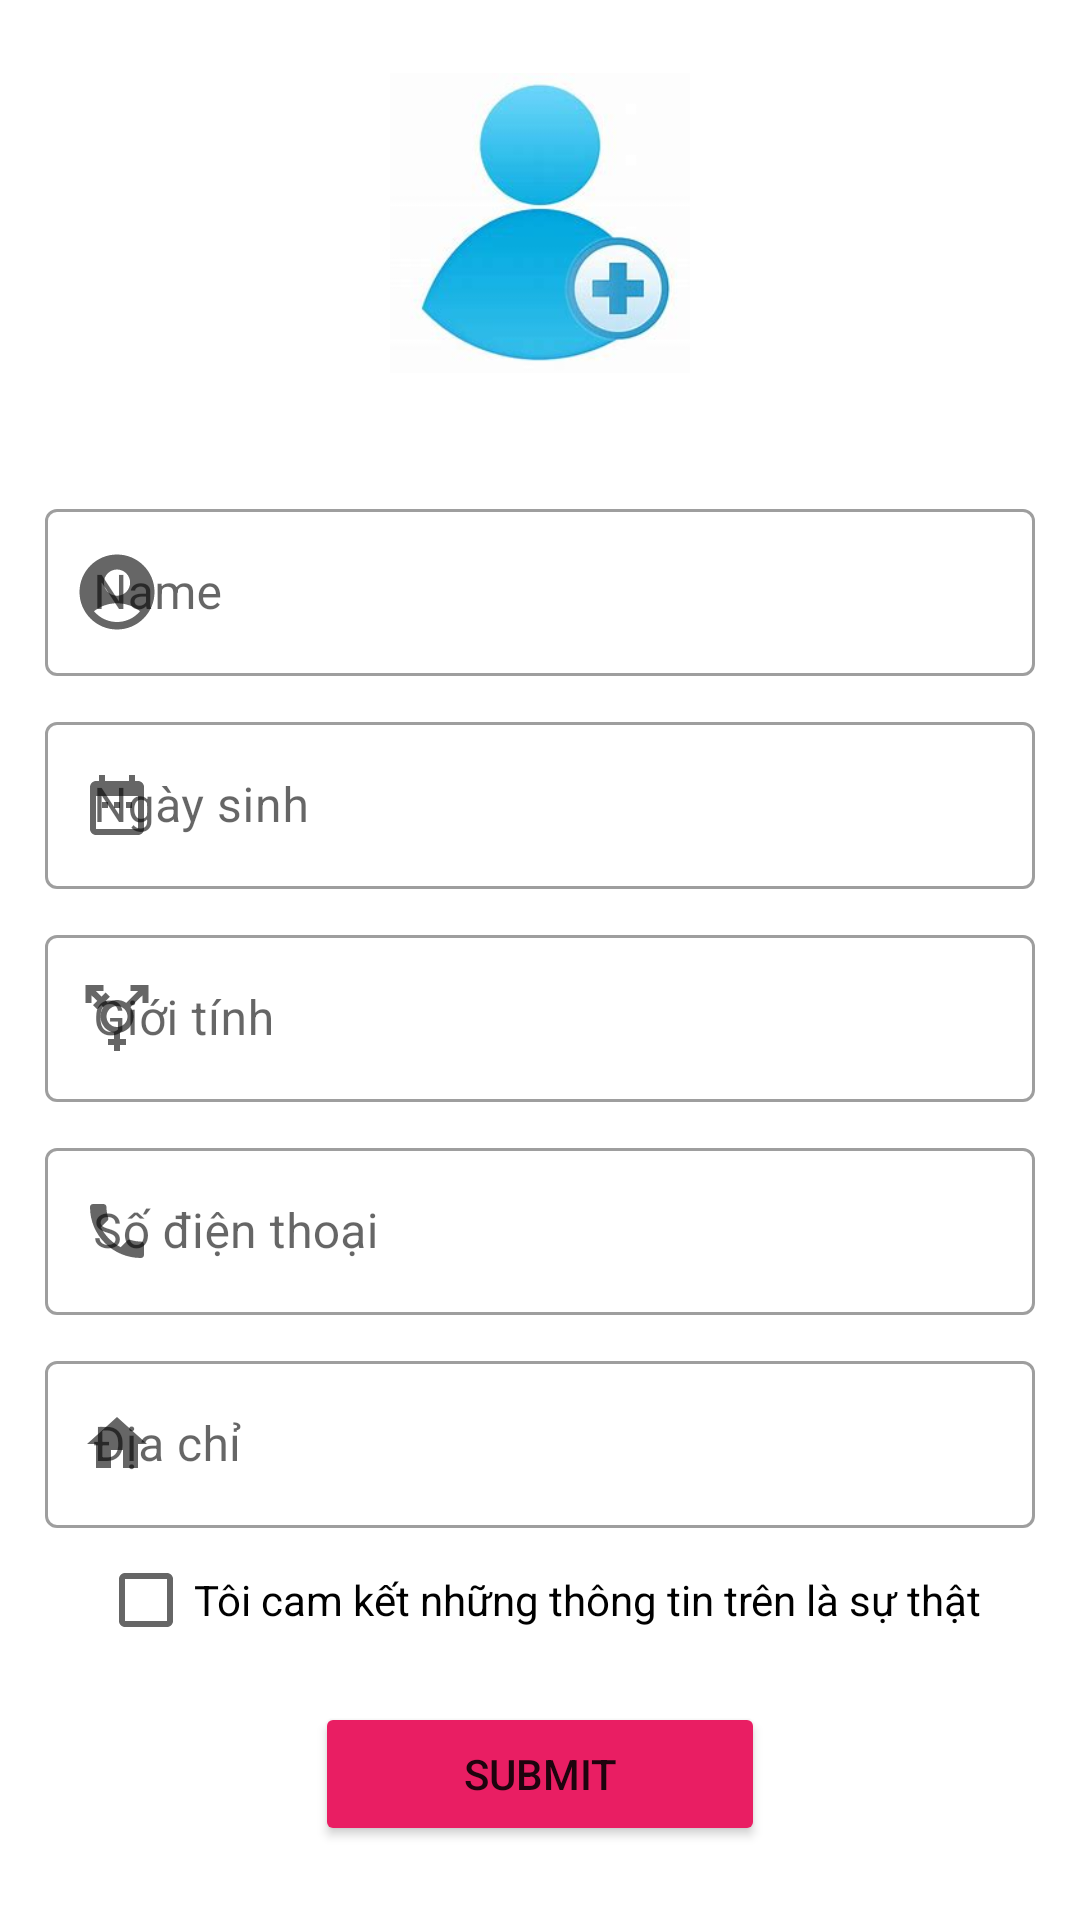

Screen size 1080px x 1920px. Icon name, then its center in pixels as (x=x, y=y):
add: (x=545, y=222)
